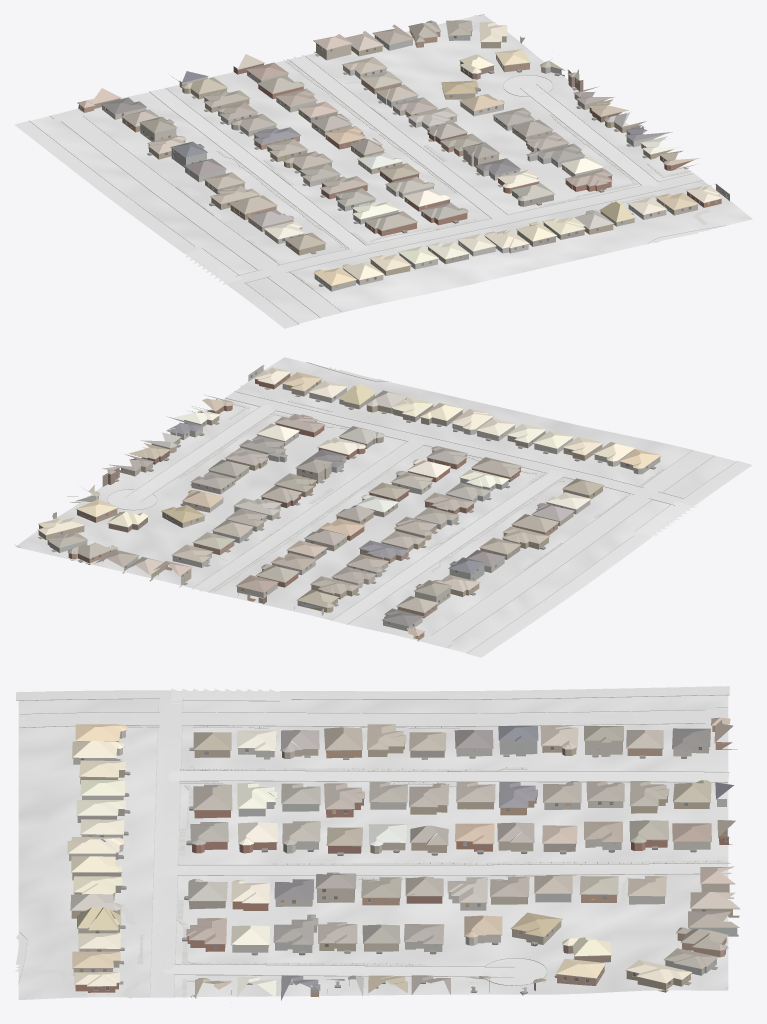
The picture shows the model from 3 angles, top to bottom: view 1: azimuth 30°, elevation 25°; view 2: azimuth 150°, elevation 25°; view 3: azimuth 270°, elevation 25°; orthographic projection. The views are drawn at different scales.
Parts seen in each view (by area): view 1: ground, roof, concrete, asphalt, wall, detail, wall_stucco, curb, walk, wall_stone, glass; view 2: ground, roof, concrete, asphalt, wall, detail, curb, wall_stucco, walk, wall_stone, glass; view 3: ground, roof, concrete, asphalt, wall, curb, wall_stucco, detail, walk, wall_stone, mark_y, mark_w.
Boxes of the visible parts, <box> form: ground: <box>30,14,752,323</box>; roof: <box>77,20,722,285</box>; concrete: <box>150,54,708,282</box>; asphalt: <box>14,109,341,328</box>; wall: <box>78,29,721,275</box>; detail: <box>77,26,729,286</box>; wall_stucco: <box>102,31,665,291</box>; curb: <box>29,14,726,324</box>; walk: <box>176,59,711,289</box>; wall_stone: <box>179,66,729,269</box>; glass: <box>106,31,723,281</box>; ground: <box>16,357,736,653</box>; roof: <box>38,367,660,636</box>; concrete: <box>107,367,683,624</box>; asphalt: <box>419,450,752,657</box>; wall: <box>38,373,602,641</box>; detail: <box>37,365,660,636</box>; curb: <box>15,362,737,653</box>; wall_stucco: <box>47,427,660,631</box>; walk: <box>177,370,663,592</box>; wall_stone: <box>70,365,590,615</box>; glass: <box>41,372,647,626</box>; ground: <box>18,691,728,999</box>; roof: <box>67,717,739,1000</box>; concrete: <box>14,698,732,997</box>; asphalt: <box>16,686,729,727</box>; wall: <box>71,726,739,998</box>; curb: <box>16,694,730,996</box>; wall_stucco: <box>73,730,738,997</box>; detail: <box>68,725,739,997</box>; walk: <box>33,726,728,998</box>; wall_stone: <box>69,748,726,990</box>; mark_y: <box>19,694,729,714</box>; mark_w: <box>21,686,729,969</box>.
Bounding box in the file's own units: 263 × 13.45 × 260.
